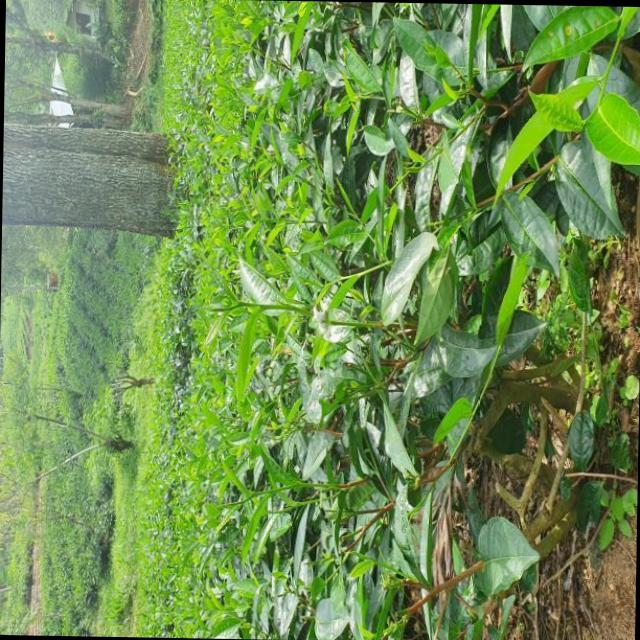Stem: (598, 90, 603, 97), (238, 300, 243, 305), (374, 559, 378, 563), (242, 498, 246, 501)
